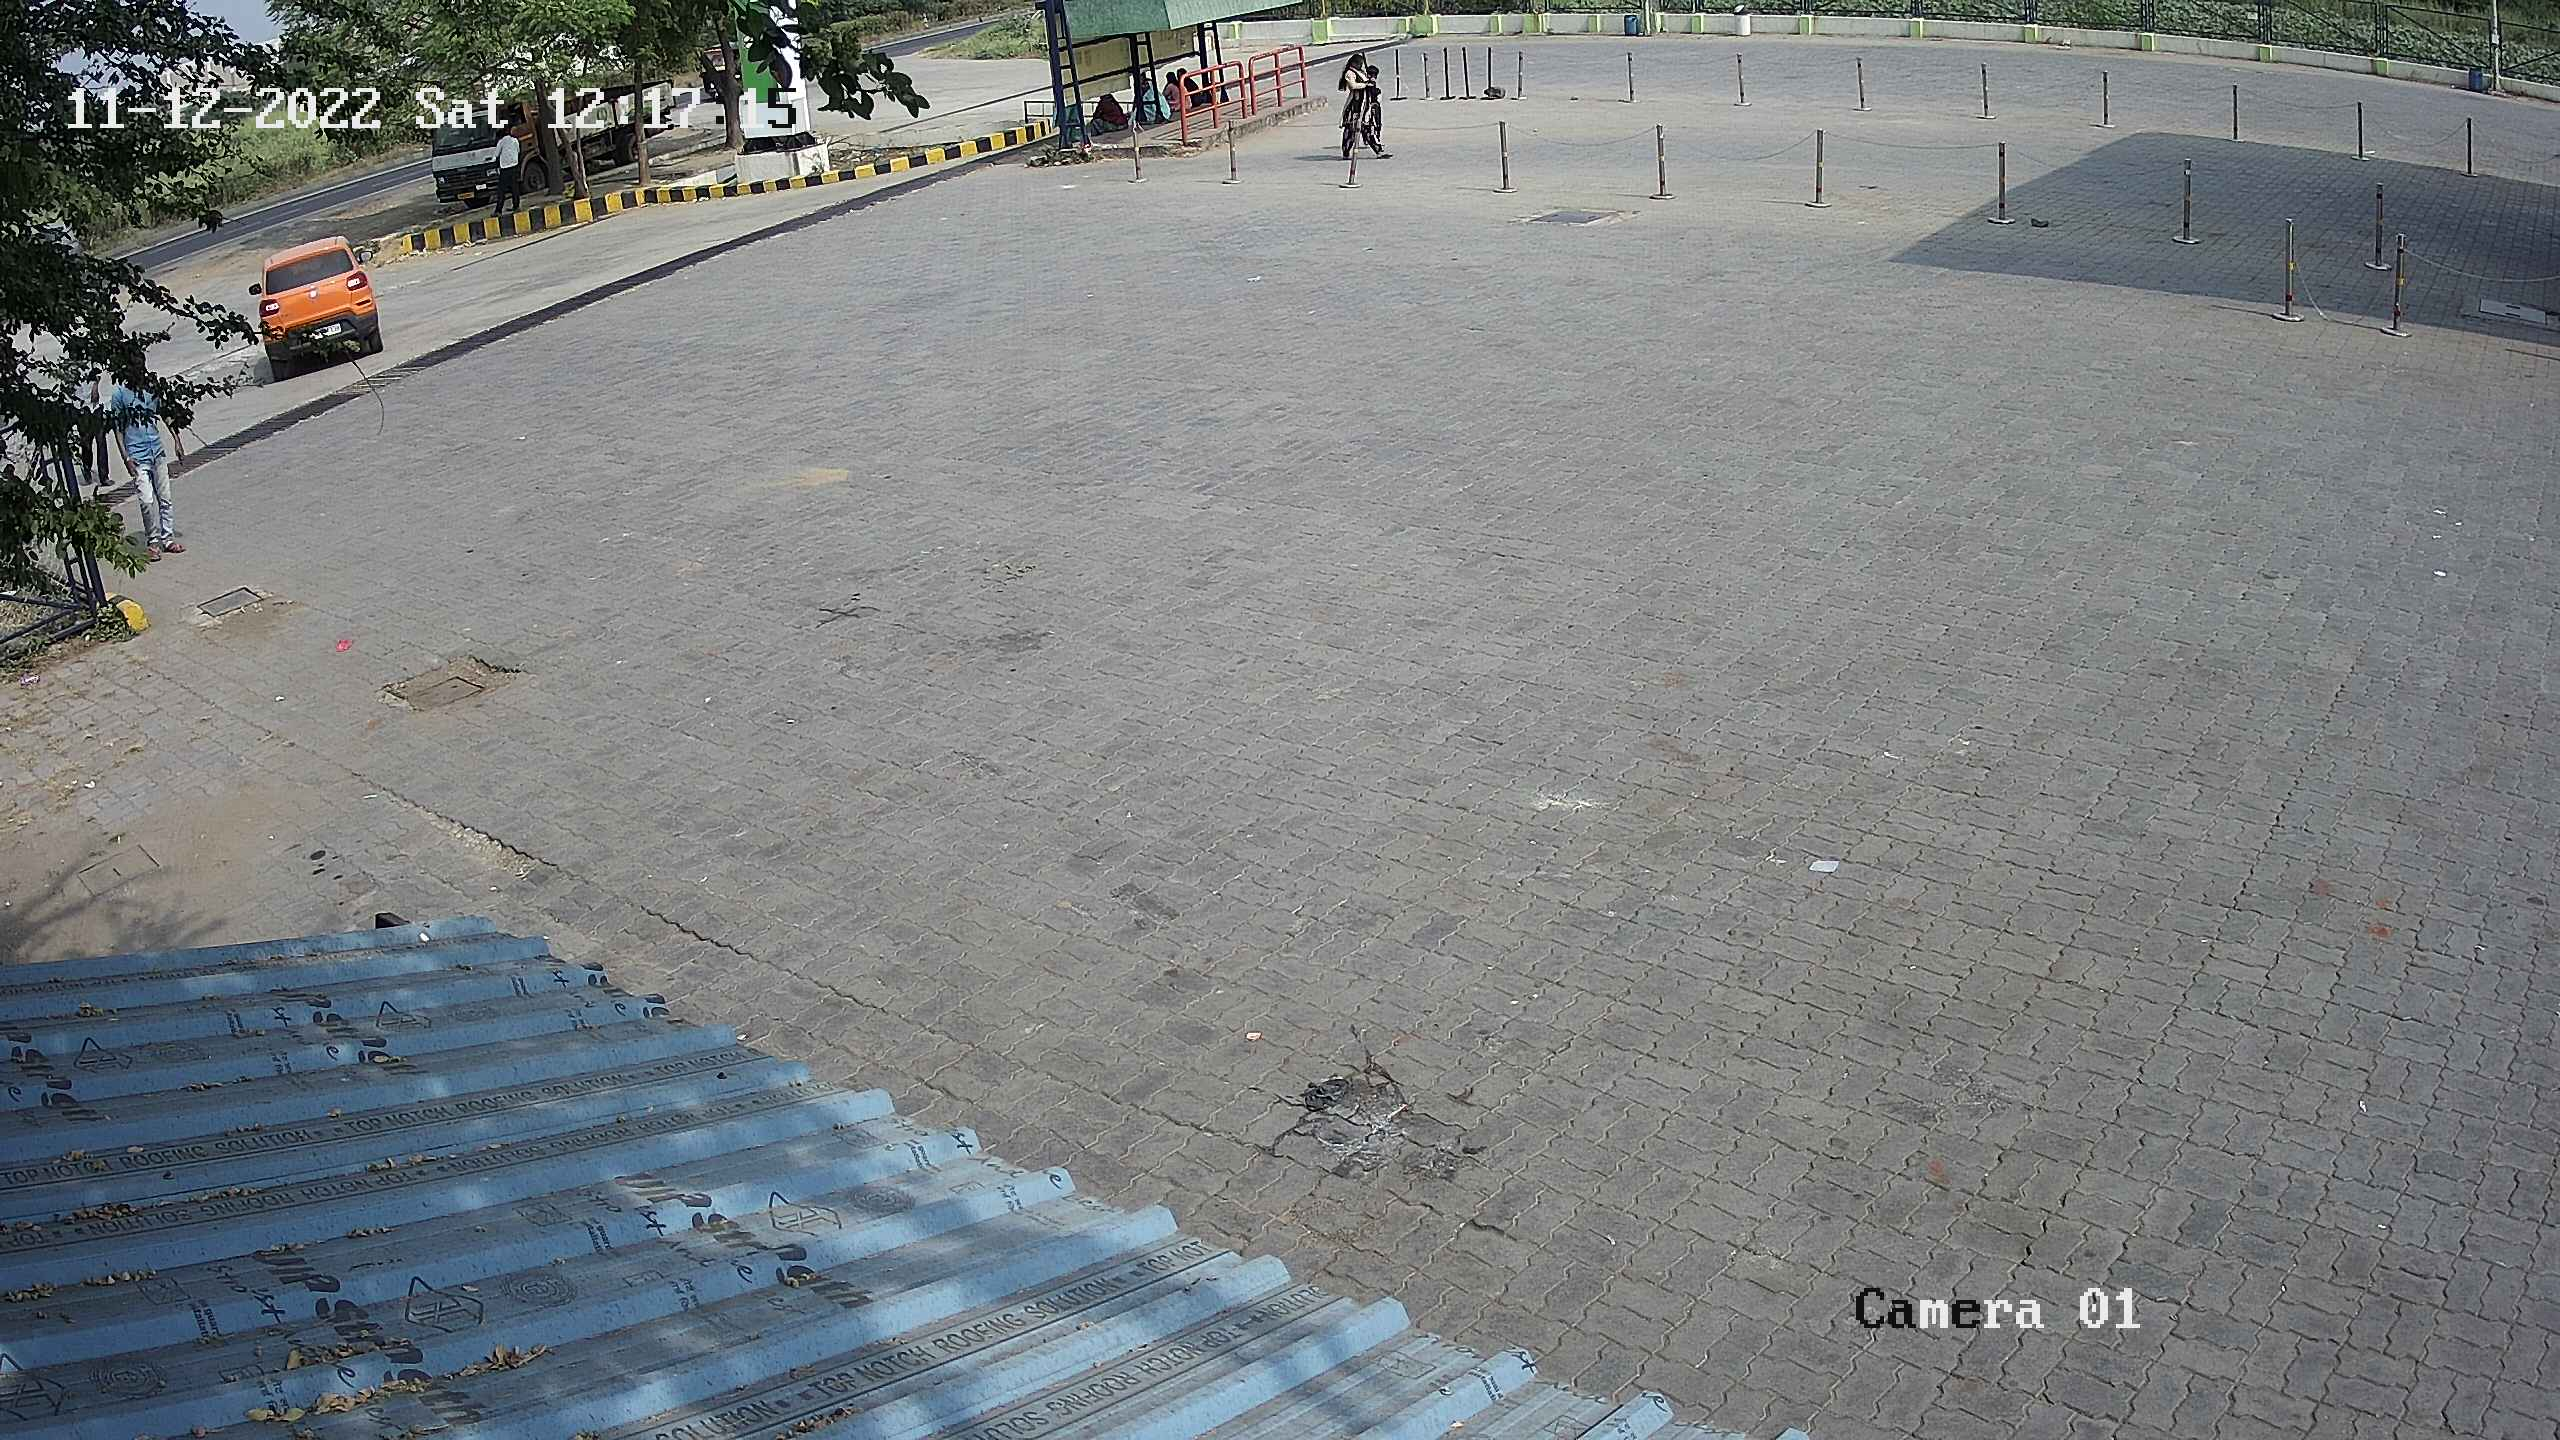Car: (241, 215, 401, 376)
HMV: (411, 51, 568, 216)
